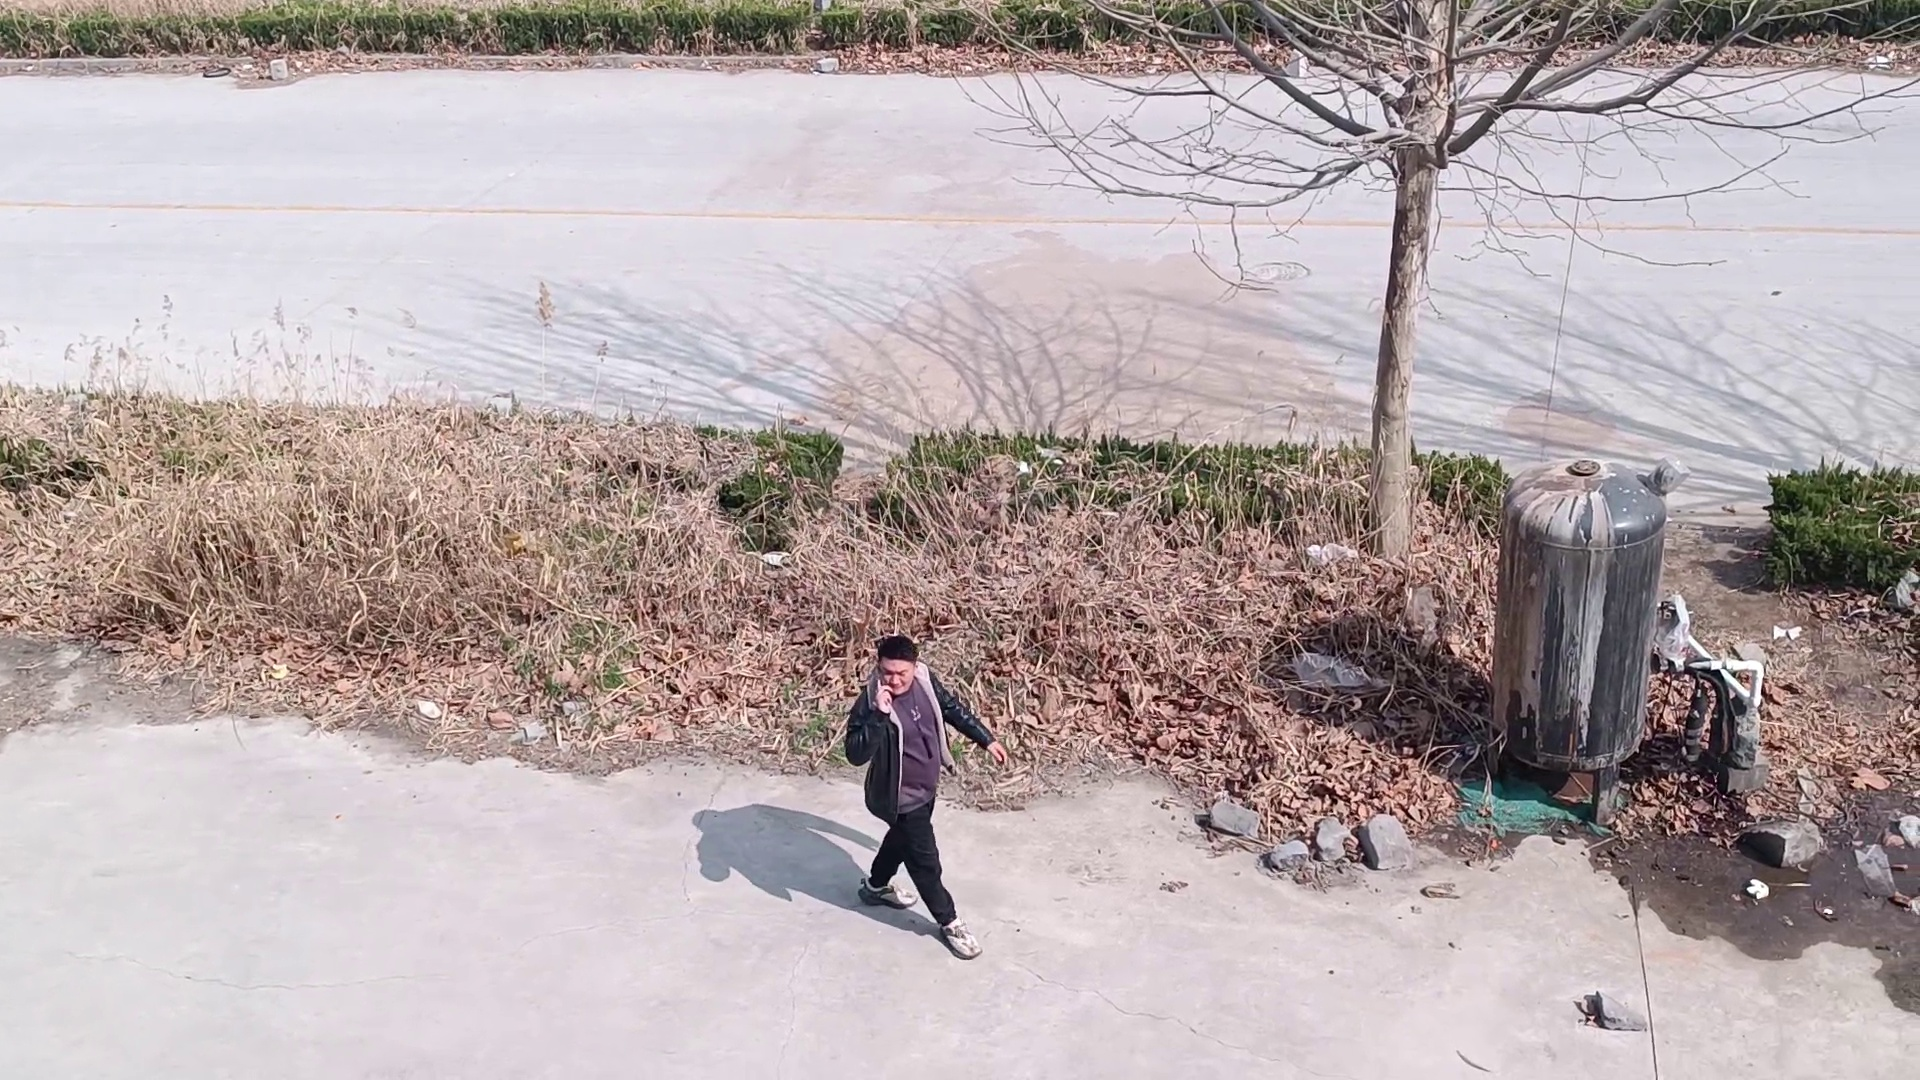phone: (864, 634, 916, 709)
